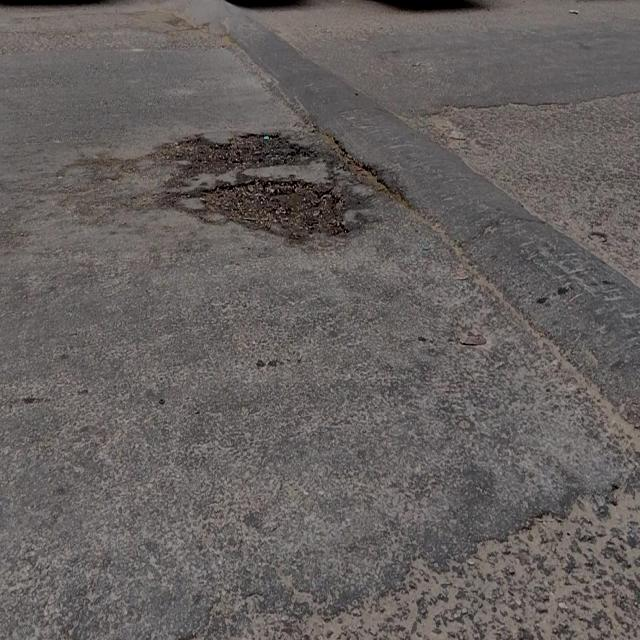Potholes: (194, 173, 350, 242), (180, 126, 317, 179)
